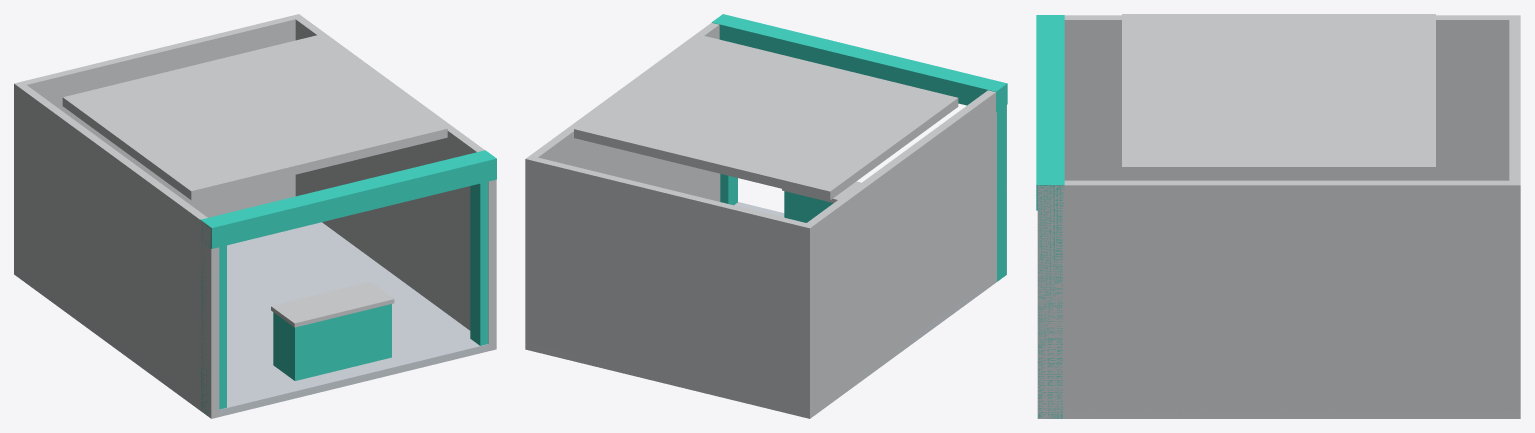
The picture shows the model from 3 angles, left to right: view 1: azimuth 30°, elevation 25°; view 2: azimuth 150°, elevation 25°; view 3: azimuth 270°, elevation 25°; orthographic projection. The views are drawn at different scales.
Parts seen in each view (by area): view 1: Exhibition Booth Concept; view 2: Exhibition Booth Concept; view 3: Exhibition Booth Concept.
Part boxes in pixels (x1,y1,x2,y2): Exhibition Booth Concept: (14, 14, 496, 418); Exhibition Booth Concept: (525, 14, 1007, 418); Exhibition Booth Concept: (1036, 14, 1520, 418).
Bounding box in the file's own units: 5 × 3.34 × 6.02.
